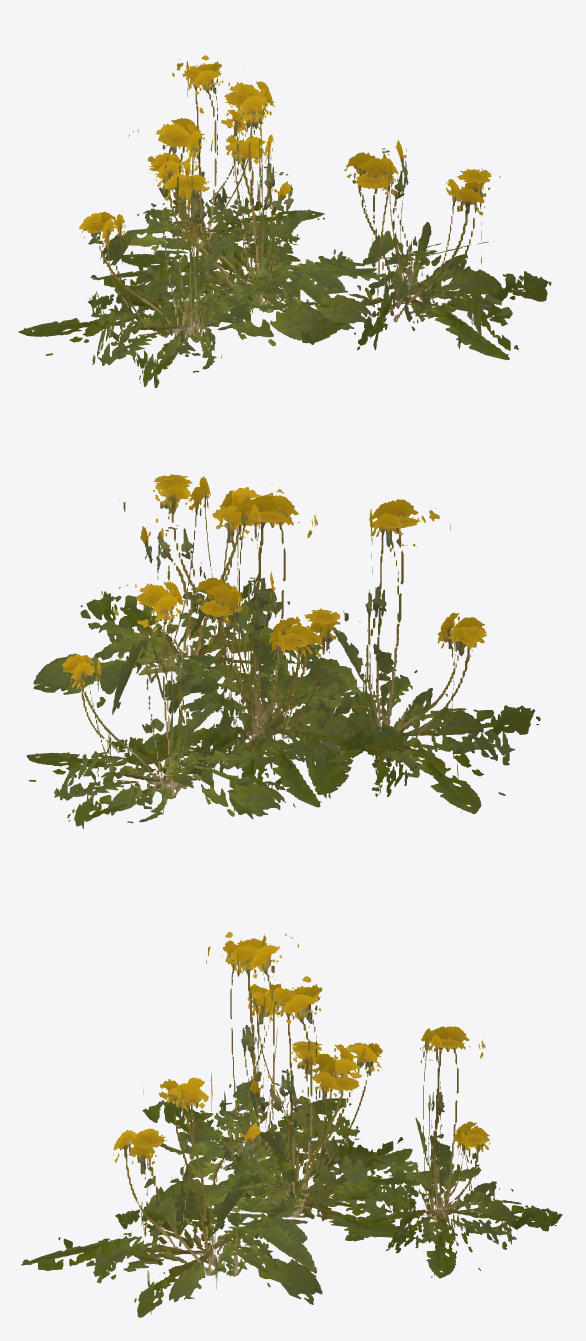
Rendered from dandelion_01.glb.
The picture shows the model from 3 angles, top to bottom: view 1: azimuth 30°, elevation 25°; view 2: azimuth 150°, elevation 25°; view 3: azimuth 270°, elevation 25°; orthographic projection. The views are drawn at different scales.
Parts seen in each view (by area): view 1: dandelion_patch_LOD0, dandelion_a_LOD0, dandelion_b_LOD0; view 2: dandelion_patch_LOD0, dandelion_a_LOD0, dandelion_b_LOD0; view 3: dandelion_patch_LOD0, dandelion_a_LOD0, dandelion_b_LOD0.
Part boxes in pixels (x1=…): dandelion_patch_LOD0: x1=18, y1=55, x2=551, y2=388; dandelion_a_LOD0: x1=121, y1=81, x2=376, y2=334; dandelion_b_LOD0: x1=90, y1=132, x2=346, y2=344; dandelion_patch_LOD0: x1=26, y1=474, x2=540, y2=828; dandelion_a_LOD0: x1=132, y1=495, x2=410, y2=814; dandelion_b_LOD0: x1=133, y1=571, x2=408, y2=807; dandelion_patch_LOD0: x1=21, y1=932, x2=562, y2=1317; dandelion_a_LOD0: x1=165, y1=976, x2=448, y2=1234; dandelion_b_LOD0: x1=164, y1=1041, x2=415, y2=1239.
Size of what is drawn, in the model's own units: 0.6677 by 0.2965 by 0.6634.
1 material, 1 textured.
